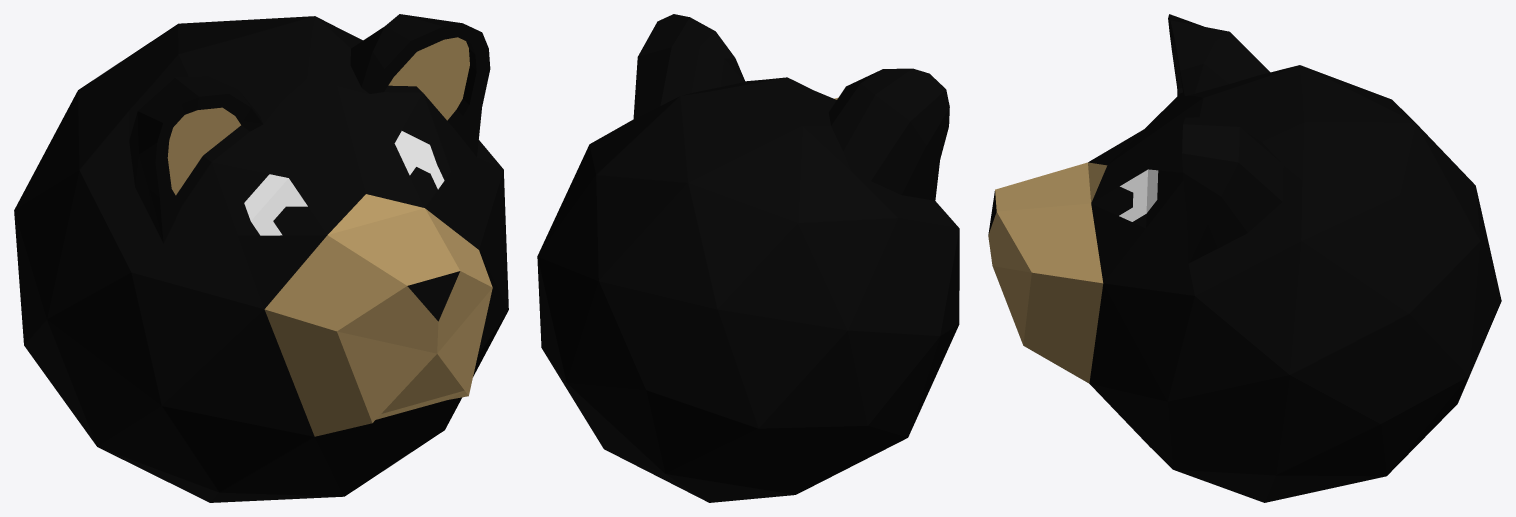
Rendered from Bear.glb.
The picture shows the model from 3 angles, left to right: view 1: azimuth 30°, elevation 25°; view 2: azimuth 150°, elevation 25°; view 3: azimuth 270°, elevation 25°; orthographic projection. The views are drawn at different scales.
Parts seen in each view (by area): view 1: Black_Bear; view 2: Black_Bear; view 3: Black_Bear.
Part boxes in pixels (left/top/right/bottom): Black_Bear: left=14, top=14, right=508, bottom=502; Black_Bear: left=537, top=14, right=959, bottom=502; Black_Bear: left=988, top=14, right=1501, bottom=502.
Size of the model in its own units: 9.08 by 9.18 by 10.59.
